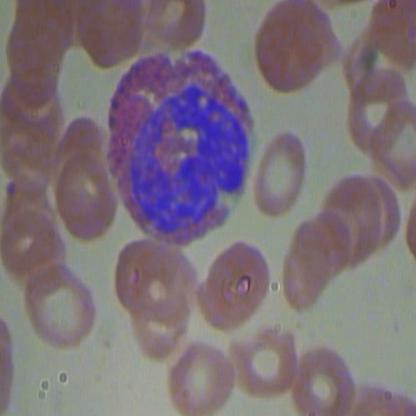RBC: (247, 0, 337, 99), (20, 258, 104, 356), (193, 237, 276, 335), (228, 319, 302, 407), (274, 217, 335, 320), (52, 147, 118, 242), (249, 130, 311, 226), (165, 340, 239, 416), (291, 343, 355, 415), (139, 0, 211, 53)
WBC: (98, 38, 264, 252)
